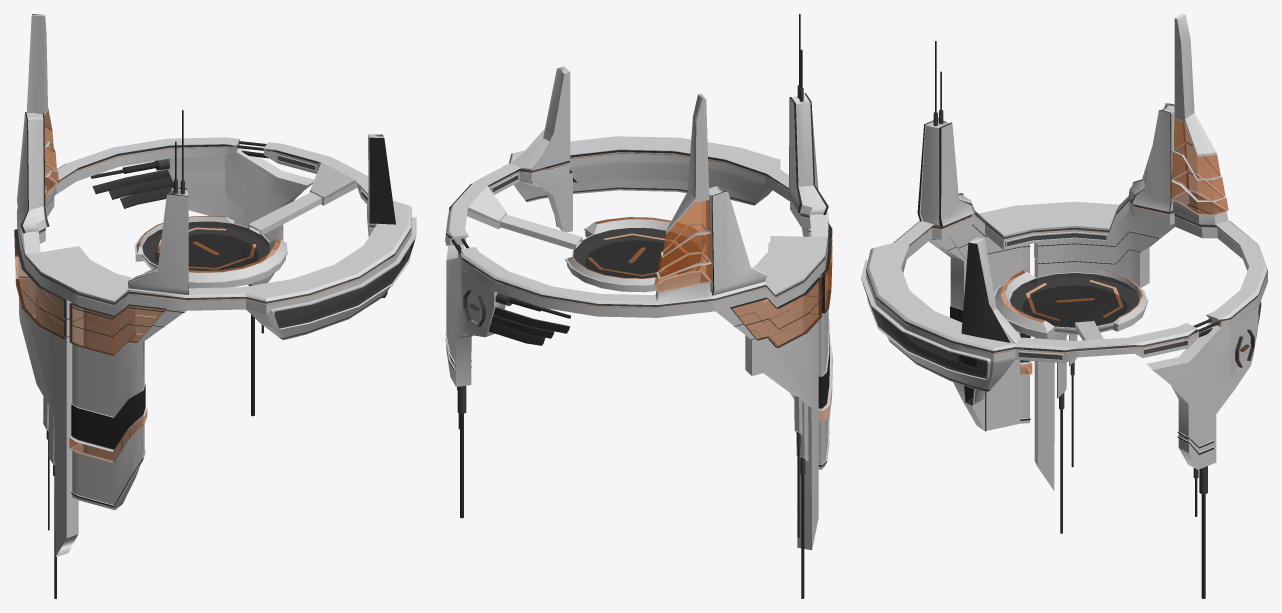
File: HiveStation.fbx
3 views of the same model, side by side, from view 1: azimuth 30°, elevation 25°; view 2: azimuth 150°, elevation 25°; view 3: azimuth 270°, elevation 25° (orthographic).
Visible parts, largest first — view 1: pCylinder22; view 2: pCylinder22; view 3: pCylinder22.
Boxes of the visible parts, <box> form: pCylinder22: <box>14,14,416,598</box>; pCylinder22: <box>445,14,832,598</box>; pCylinder22: <box>861,14,1267,598</box>.
Bounding box in the file's own units: 24.17 × 36.44 × 25.02.
